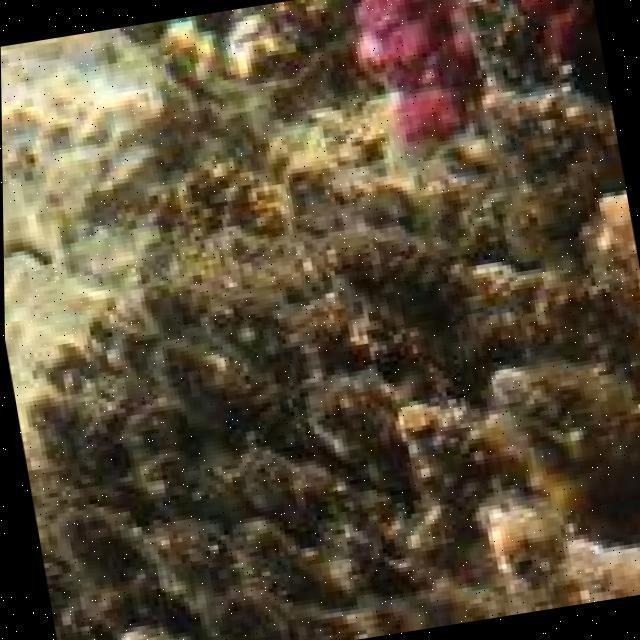Dead Coral: (0, 227, 640, 640)
Healthy Coral: (337, 0, 495, 146)
